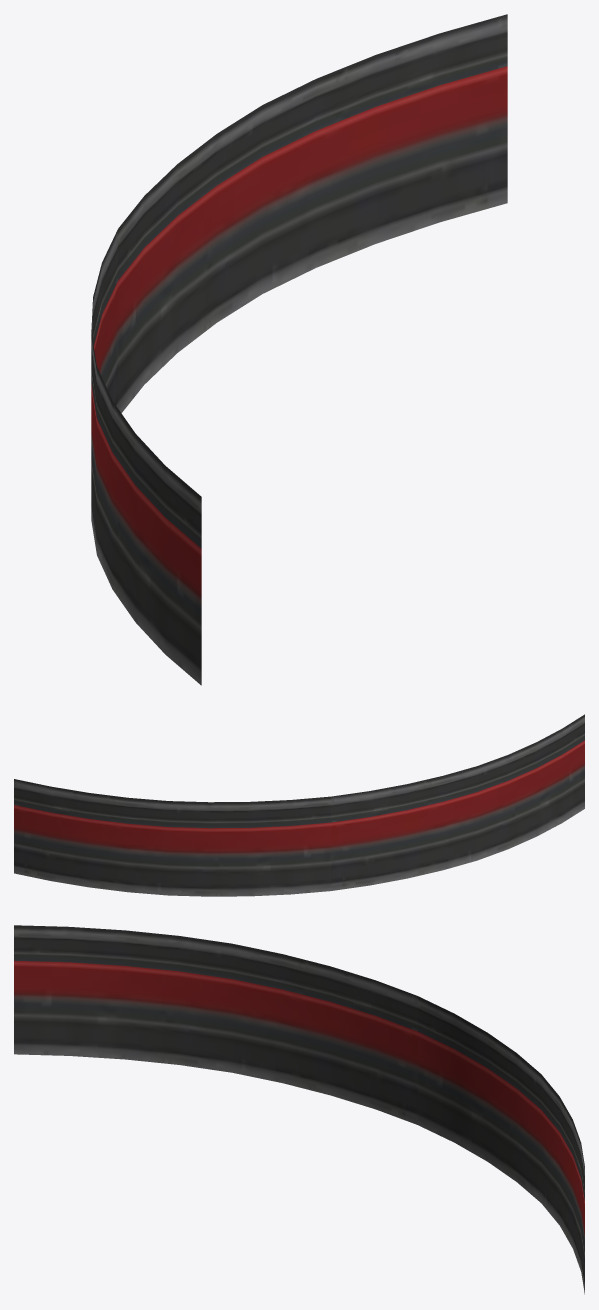
The model's file is ShortWall_AccentStrip_Corner_Outer.glb.
The picture shows the model from 3 angles, top to bottom: view 1: azimuth 30°, elevation 25°; view 2: azimuth 150°, elevation 25°; view 3: azimuth 270°, elevation 25°; orthographic projection. The views are drawn at different scales.
Visible parts, largest first — view 1: ShortWall_AccentStrip_Corner_Outer; view 2: ShortWall_AccentStrip_Corner_Outer; view 3: ShortWall_AccentStrip_Corner_Outer.
Boxes of the visible parts, x1,y1,x2,y2 form: ShortWall_AccentStrip_Corner_Outer: (91,14,507,685); ShortWall_AccentStrip_Corner_Outer: (14,714,584,896); ShortWall_AccentStrip_Corner_Outer: (14,925,584,1294).
Size of the model in its own units: 4 by 0.9981 by 4.
Materials: 1 (1 with a texture image).
